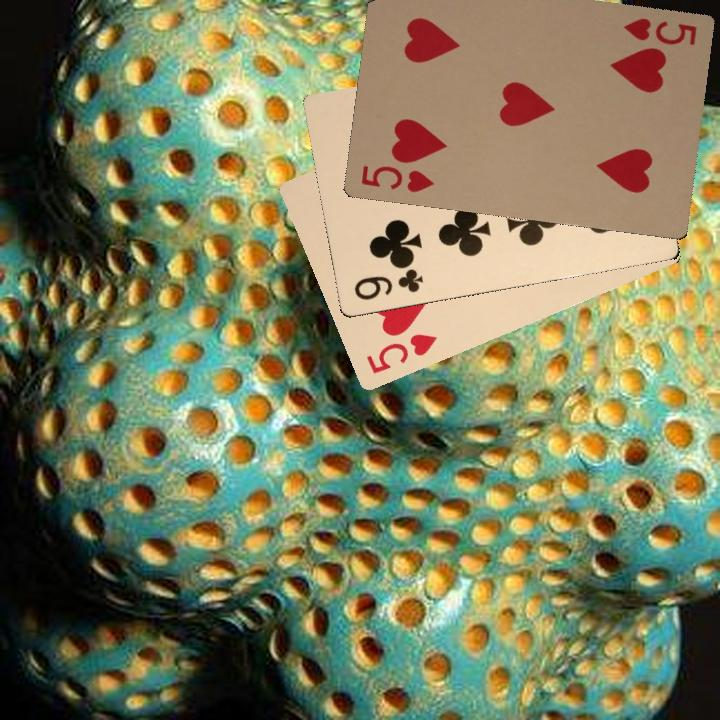5h: (362, 329, 440, 377), (619, 13, 699, 48), (357, 161, 437, 195)
9c: (350, 261, 426, 303)
